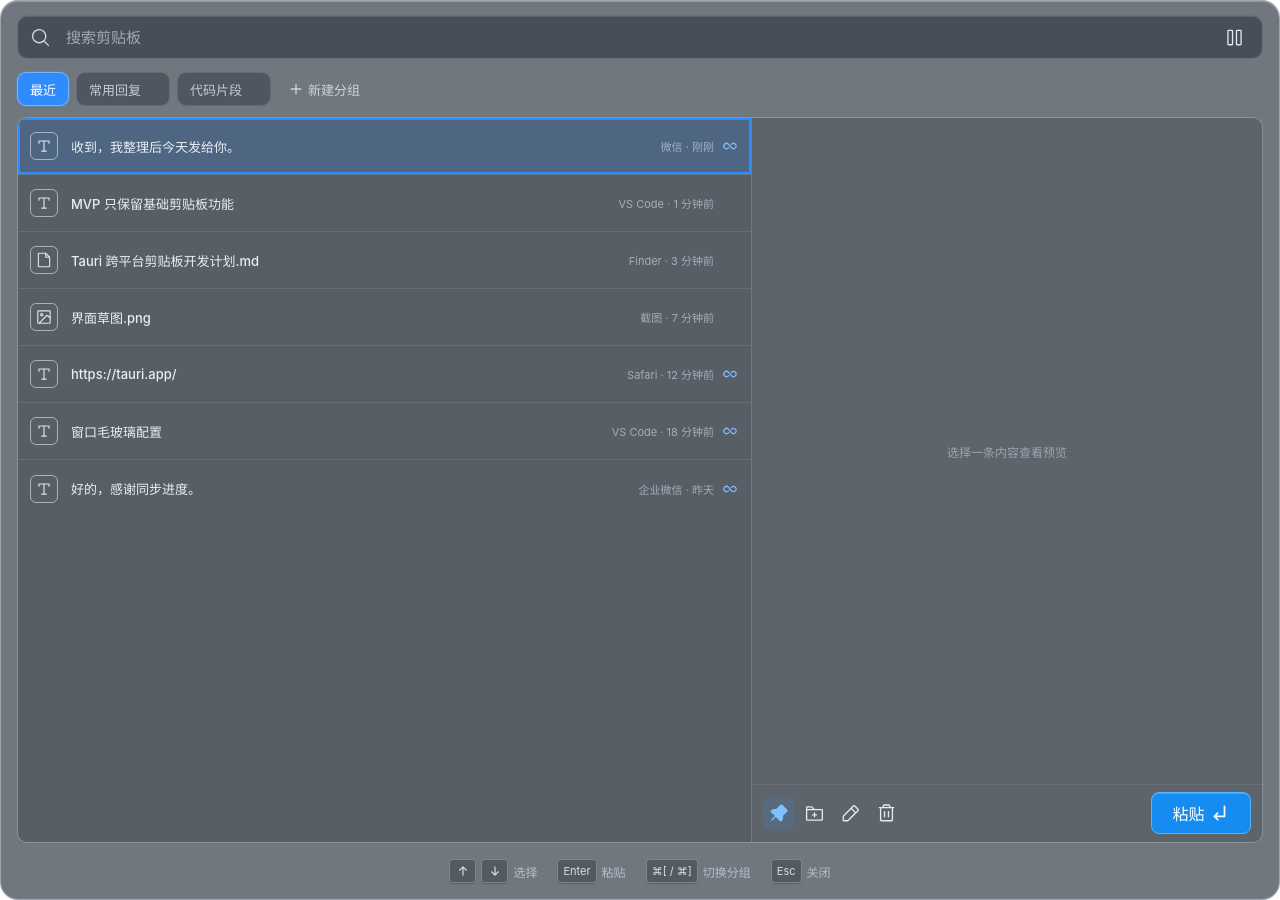
App › explains the Windows manual-paste fallback after clipboard write succeeds
The width and height of the screenshot is (1280, 900).
Double-click the text "MVP 只保留基础剪贴板功能".
double_click(152, 204)  # box x1=71 y1=196 x2=234 y2=212
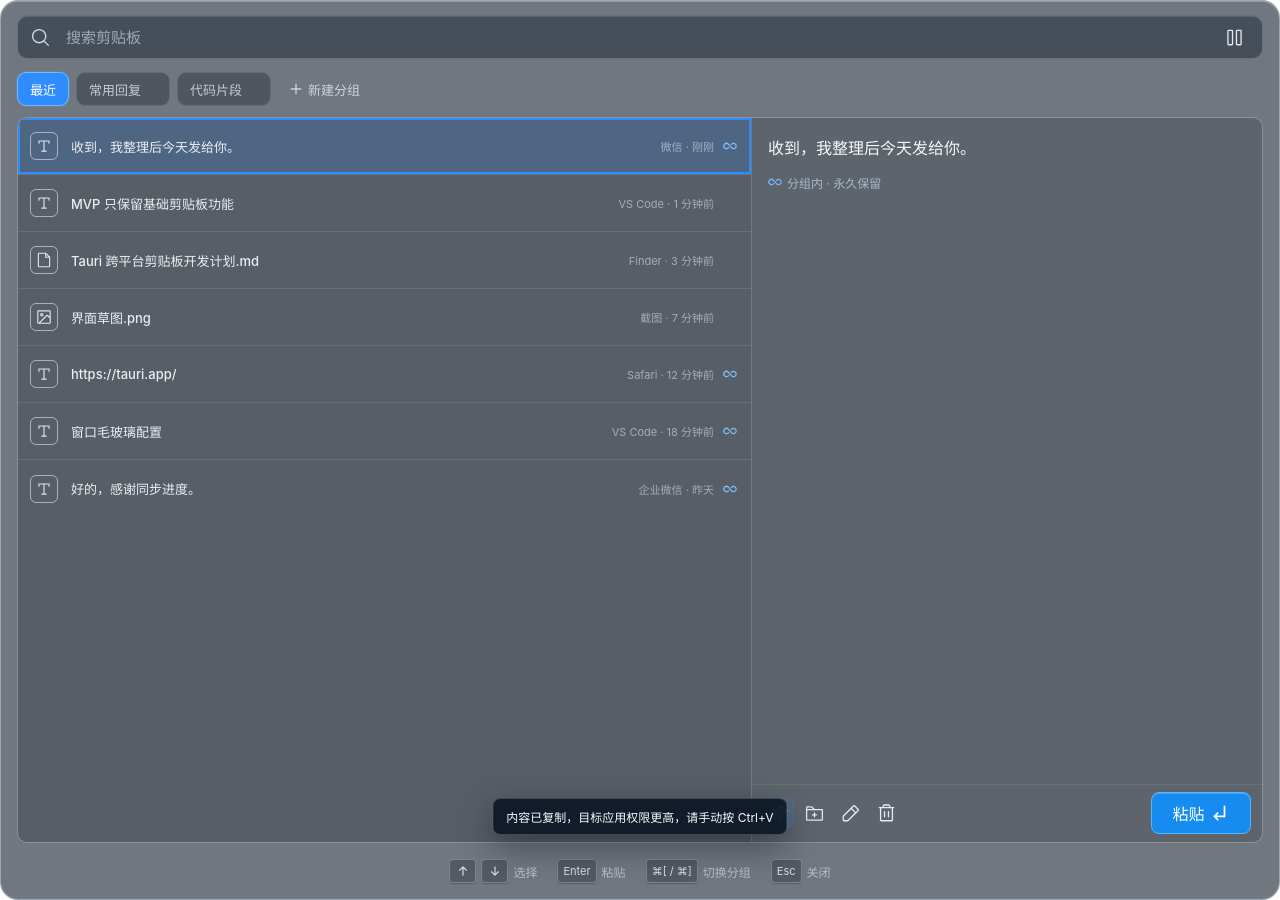
Now the text "内容已复制，目标应用权限更高，请手动按 Ctrl+V" is shown, box x1=492 y1=798 x2=788 y2=835
